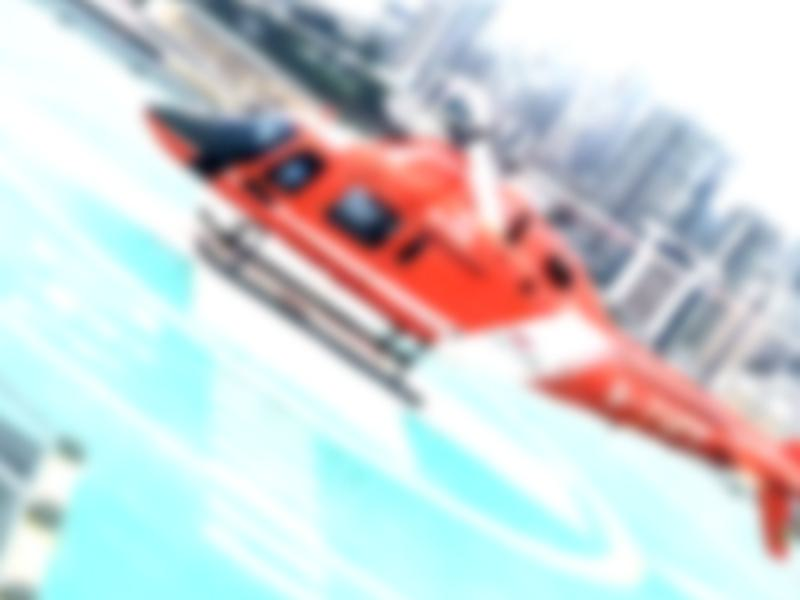Apron: (2, 103, 659, 596)
